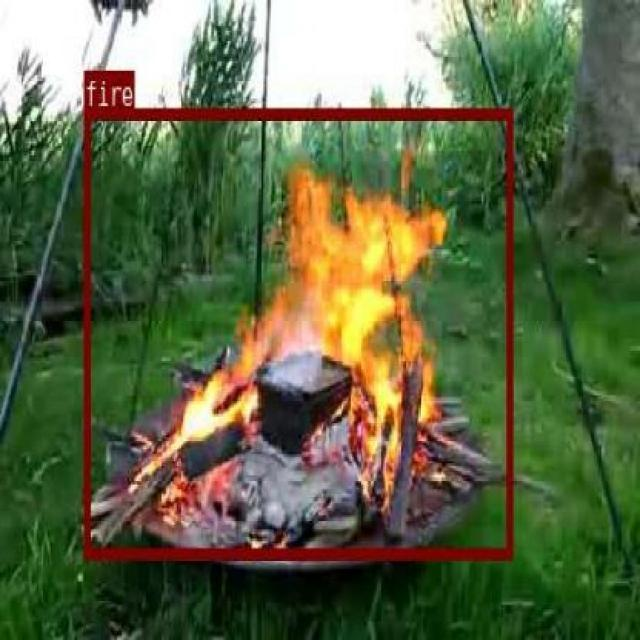Fire: (298, 332, 428, 449)
